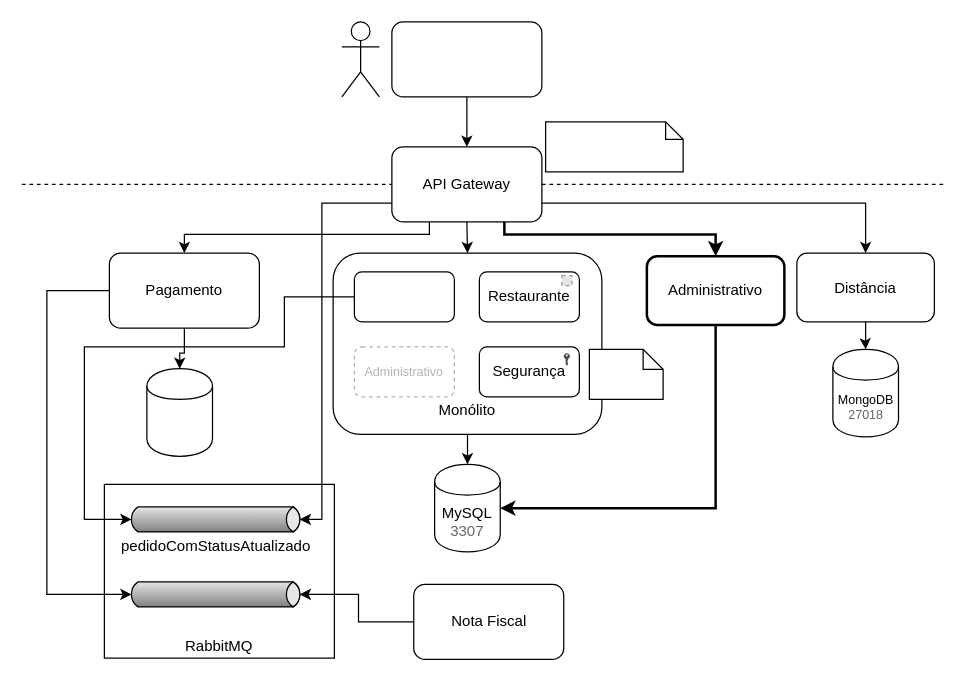
The diagram is 970 pixels wide and 681 high, and some of its shapes have lost their labels. Grey dashed boxes stand in for pictures. The centre of each missing label's shape, as x and y in pixels:
Gera e valida tokens: (625,373)
MySQL 3308: (179,412)
pagamentosConfirmados: (215,593)
Pedido: (403,296)
Proxy API Composer: (613,146)
UI: (466,59)
